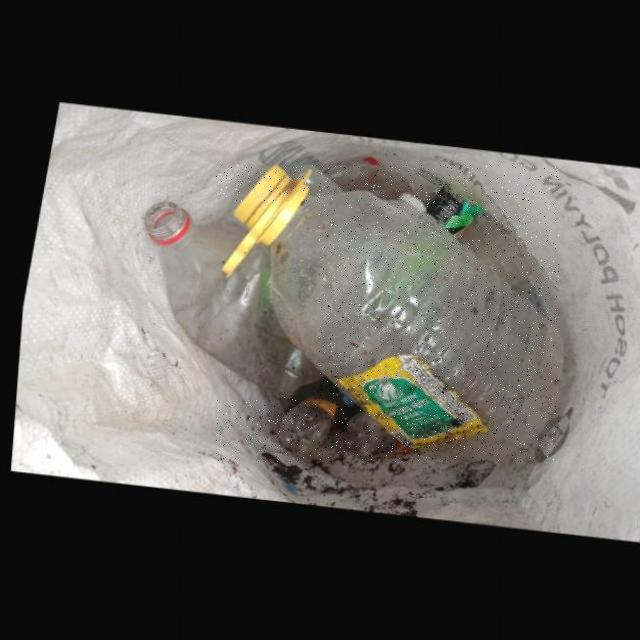plastic: (216, 165, 559, 462), (138, 201, 319, 399), (340, 410, 408, 460), (273, 397, 333, 453), (469, 233, 526, 284)
